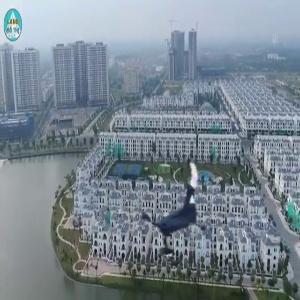drone: (133, 164, 222, 253)
